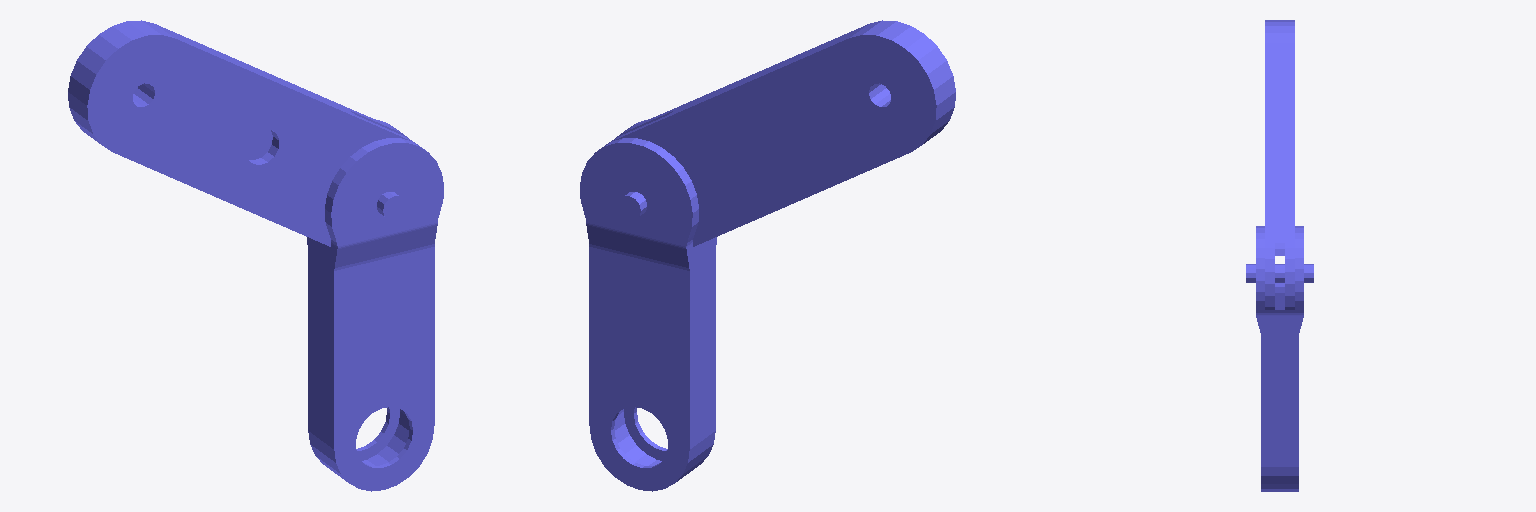
The robot description file, URDF, robot "UET_discription":
<?xml version="1.0" encoding="utf-8"?>
<!-- This URDF was automatically created by SolidWorks to URDF Exporter! Originally created by [author] ([email redacted]) 
     Commit Version: 1.6.0-1-g15f4949  Build Version: 1.6.7594.29634
     For more information, please see http://wiki.ros.org/sw_urdf_exporter -->
<robot
  name="UET_discription">
  <link
    name="base_link">
    <inertial>
      <origin
        xyz="0.0065983702120464 -0.0257427295708328 0.336373566912517"
        rpy="0 0 0" />
      <mass
        value="2.13775890794895" />
      <inertia
        ixx="0.0447028692836465"
        ixy="-2.94763553843355E-07"
        ixz="2.53128621951429E-05"
        iyy="0.0447043656015194"
        iyz="-8.94085734844152E-06"
        izz="0.00543037915506856" />
    </inertial>
    <visual>
      <origin
        xyz="0 0 0"
        rpy="0 0 0" />
      <geometry>
        <mesh
          filename="package://UET_discription/meshes/base_link.STL" />
      </geometry>
      <material
        name="">
        <color
          rgba="0.792156862745098 0.819607843137255 0.933333333333333 1" />
      </material>
    </visual>
    <collision>
      <origin
        xyz="0 0 0"
        rpy="0 0 0" />
      <geometry>
        <mesh
          filename="package://UET_discription/meshes/base_link.STL" />
      </geometry>
    </collision>
  </link>
  <link
    name="link_1">
    <inertial>
      <origin
        xyz="-8.67361737988404E-19 -0.0718597871210987 0.0268557087493879"
        rpy="0 0 0" />
      <mass
        value="0.979766055196368" />
      <inertia
        ixx="0.00747669548599809"
        ixy="-1.22078307926861E-19"
        ixz="-9.57416633403933E-21"
        iyy="0.00122674898370894"
        iyz="-3.56275974428907E-06"
        izz="0.00814613143305283" />
    </inertial>
    <visual>
      <origin
        xyz="0 0 0"
        rpy="0 0 0" />
      <geometry>
        <mesh
          filename="package://UET_discription/meshes/link_1.STL" />
      </geometry>
      <material
        name="">
        <color
          rgba="0.501960784313725 0.501960784313725 1 1" />
      </material>
    </visual>
    <collision>
      <origin
        xyz="0 0 0"
        rpy="0 0 0" />
      <geometry>
        <mesh
          filename="package://UET_discription/meshes/link_1.STL" />
      </geometry>
    </collision>
  </link>
  <joint
    name="joint_1"
    type="prismatic">
    <origin
      xyz="0.0066366 -0.563 -0.025756"
      rpy="1.5708 0 0" />
    <parent
      link="base_link" />
    <child
      link="link_1" />
    <axis
      xyz="0 0 1" />
    <limit
      lower="0"
      upper="0.25"
      effort="0"
      velocity="0" />
  </joint>
  <link
    name="link_2">
    <inertial>
      <origin
        xyz="2.77555756156289E-17 -0.111115906260767 0.0149039187770865"
        rpy="0 0 0" />
      <mass
        value="0.735688332874957" />
      <inertia
        ixx="0.00703986564925121"
        ixy="1.30104260698261E-18"
        ixz="-3.67929936463587E-20"
        iyy="0.000681755118576011"
        iyz="-9.81408755090606E-07"
        izz="0.00758188394305661" />
    </inertial>
    <visual>
      <origin
        xyz="0 0 0"
        rpy="0 0 0" />
      <geometry>
        <mesh
          filename="package://UET_discription/meshes/link_2.STL" />
      </geometry>
      <material
        name="">
        <color
          rgba="0.501960784313725 0.501960784313725 1 1" />
      </material>
    </visual>
    <collision>
      <origin
        xyz="0 0 0"
        rpy="0 0 0" />
      <geometry>
        <mesh
          filename="package://UET_discription/meshes/link_2.STL" />
      </geometry>
    </collision>
  </link>
  <joint
    name="joint_2"
    type="continuous">
    <origin
      xyz="0 -0.20072 0.012"
      rpy="0 0 0.99553" />
    <parent
      link="link_1" />
    <child
      link="link_2" />
    <axis
      xyz="0 0 1" />
  </joint>
  <link
    name="link_3">
    <inertial>
      <origin
        xyz="2.77555756156289E-17 -0.0858630761090732 0.015"
        rpy="0 0 0" />
      <mass
        value="0.46058799788846" />
      <inertia
        ixx="0.00330258197825701"
        ixy="2.15201552356455E-19"
        ixz="-1.54365406658549E-20"
        iyy="0.000523672756561597"
        iyz="-1.19153988457126E-19"
        izz="0.00357603273485006" />
    </inertial>
    <visual>
      <origin
        xyz="0 0 0"
        rpy="0 0 0" />
      <geometry>
        <mesh
          filename="package://UET_discription/meshes/link_3.STL" />
      </geometry>
      <material
        name="">
        <color
          rgba="0.501960784313725 0.501960784313725 1 1" />
      </material>
    </visual>
    <collision>
      <origin
        xyz="0 0 0"
        rpy="0 0 0" />
      <geometry>
        <mesh
          filename="package://UET_discription/meshes/link_3.STL" />
      </geometry>
    </collision>
  </link>
  <joint
    name="joint_3"
    type="continuous">
    <origin
      xyz="0 -0.25 0"
      rpy="0 0 -0.99553" />
    <parent
      link="link_2" />
    <child
      link="link_3" />
    <axis
      xyz="0 0 1" />
  </joint>
</robot>

--- Facts derived from the render (not from the file) ---
3 views of the same robot in one strip: view 1: azimuth 30°, elevation 25°; view 2: azimuth 150°, elevation 25°; view 3: azimuth 270°, elevation 25° (orthographic).
Model UET_discription with 4 links and 3 joints (2 continuous, 1 prismatic), rooted at base_link, posed all joints at 0.
Visible links, largest first — view 1: link_3, link_2; view 2: link_3, link_2; view 3: link_3, link_2.
Link boxes in pixels (box(x1,y1,x2,y2)): link_3: box(307, 119, 443, 491); link_2: box(68, 20, 417, 246); link_3: box(580, 119, 716, 491); link_2: box(606, 20, 955, 246); link_3: box(1246, 226, 1313, 491); link_2: box(1265, 20, 1294, 309).
Bounding box of the posed robot: 0.3096 × 0.07 × 0.4302 m (x, y, z).
2 mesh visuals loaded from 4 distinct referenced files (2 binary STL); not drawn: 2 (reference not matched to a file when rendering).